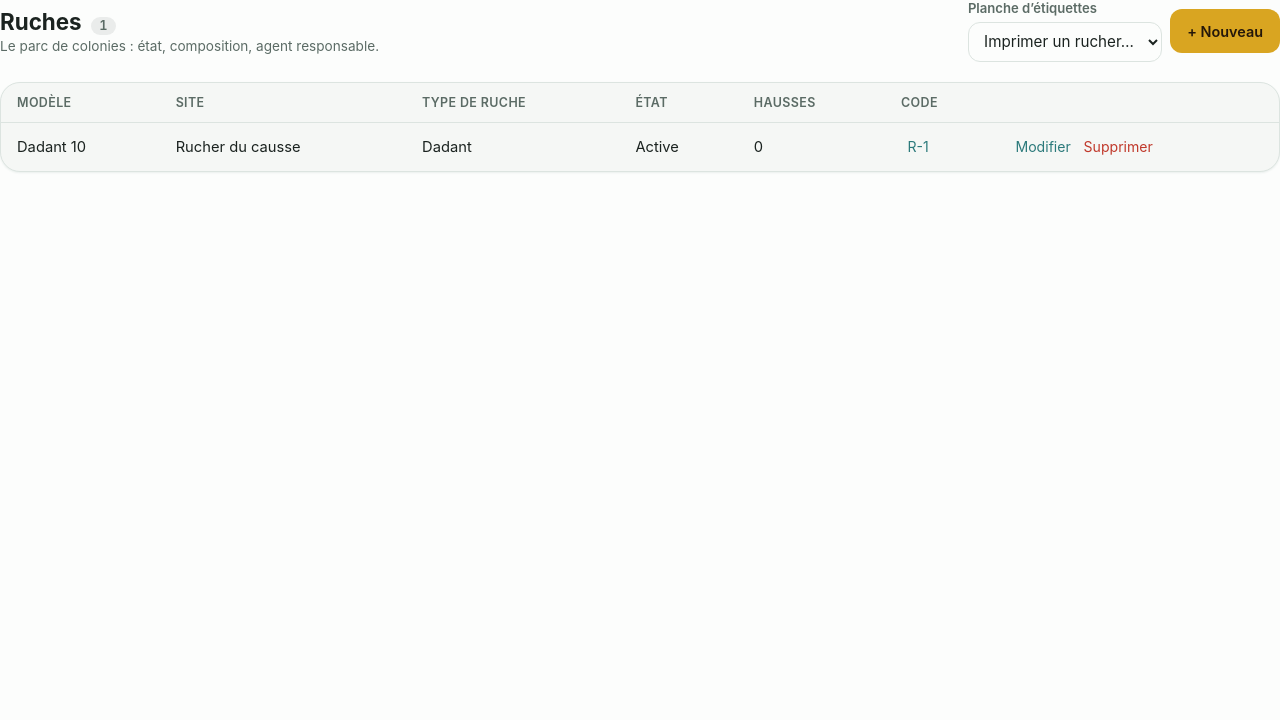
Test: référentiel de la ruche › n’offre la cause de clôture que sur une ruche clôturée
Expected: the text "Dadant 10" is shown, [1,123,160,171]
Click the button "Modifier".
click(1043, 147)  # box [1009,135,1077,159]
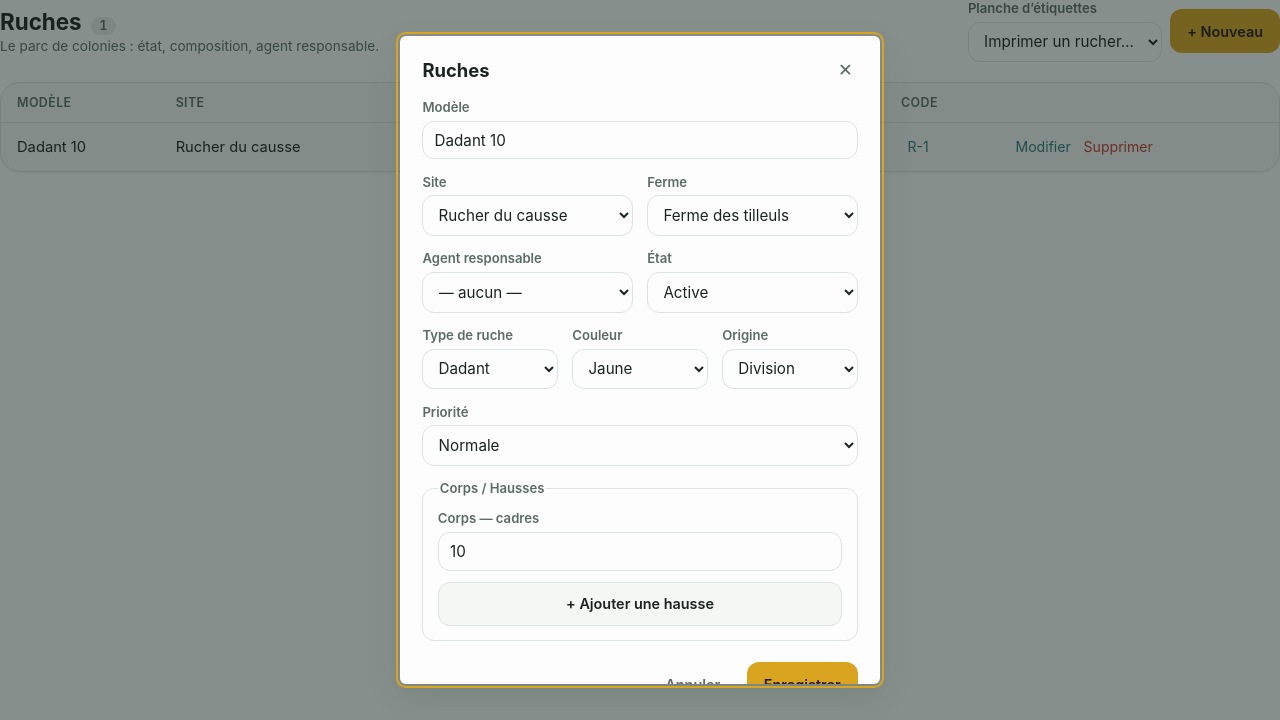
Expected: the field labelled "Cause de clôture" is not shown
Select "Clôturée" in the dropdown labelled "État" at (752, 292), box [647,272,858,312]
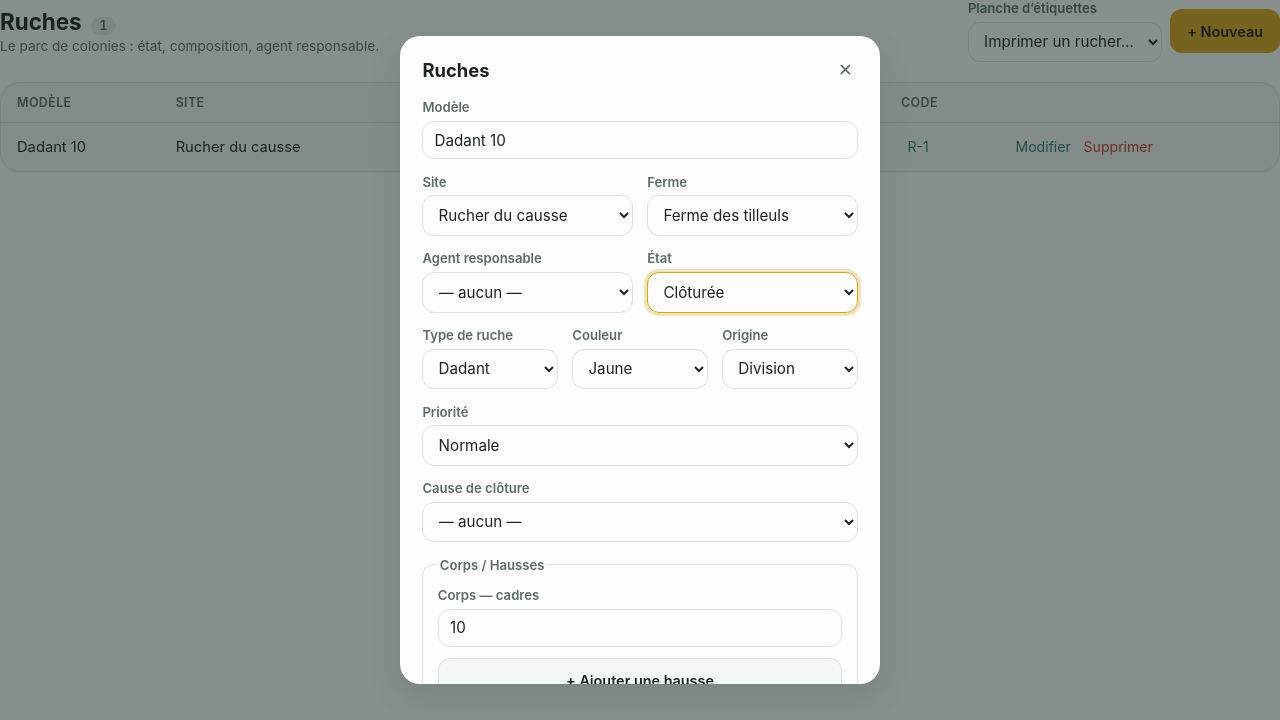
Now the dropdown labelled "Cause de clôture" is shown, box [422,502,858,542]
